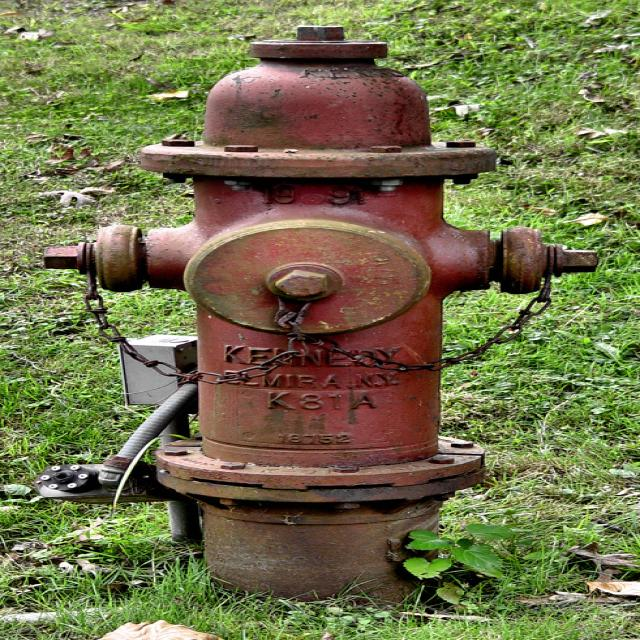fire_hydrant: (38, 27, 599, 608)
